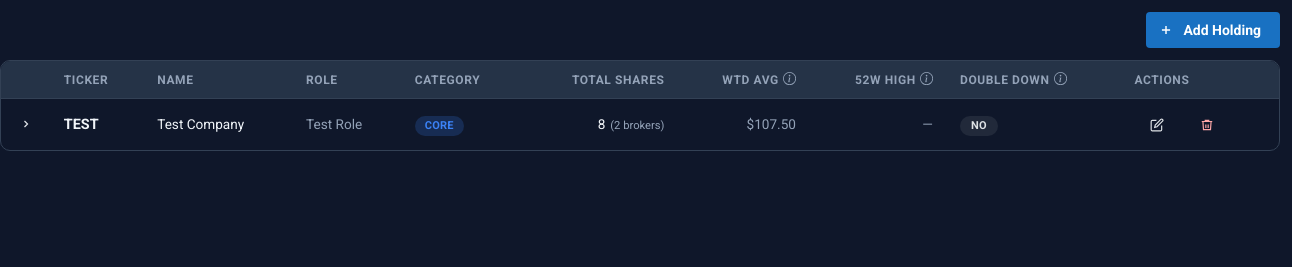
Scenario: ManageHoldingsTable › shows broker breakdown when the chevron is clicked
Click the button titled "Show broker breakdown": {"x": 26, "y": 124} [15, 114, 37, 136]
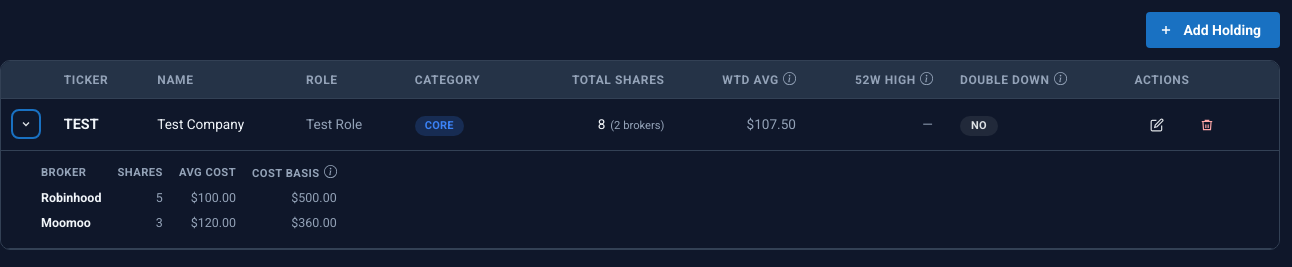
Result: the text "Robinhood" is shown at [41, 186, 117, 211]
Result: the text "Moomoo" is shown at [41, 211, 117, 236]
